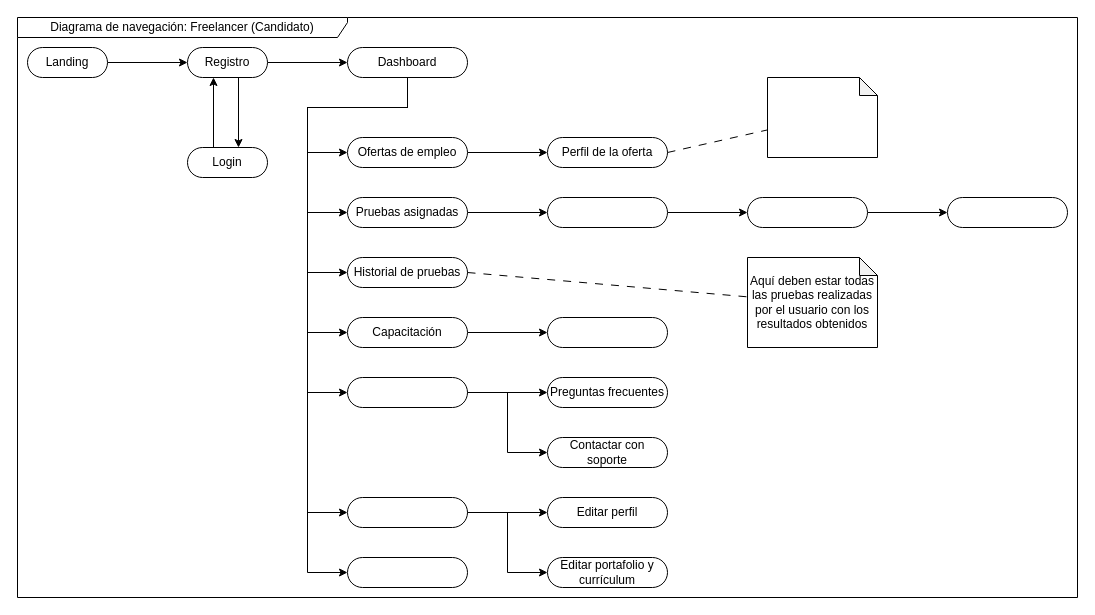
This 1095x615 diagram has some shape labels left out. Here are the shapes that lost their labels. From the top down, the box of each, then its label:
(766, 76, 878, 158): Aquí debe estar el botón para postularse
(546, 196, 668, 228): Perfil de la prueba
(746, 196, 868, 228): Realizar prueba
(946, 196, 1068, 228): Resultado
(546, 316, 668, 348): Material de capacitación
(346, 376, 468, 408): Soporte
(346, 496, 468, 528): Perfil de usuario
(346, 556, 468, 588): Notificaciones
